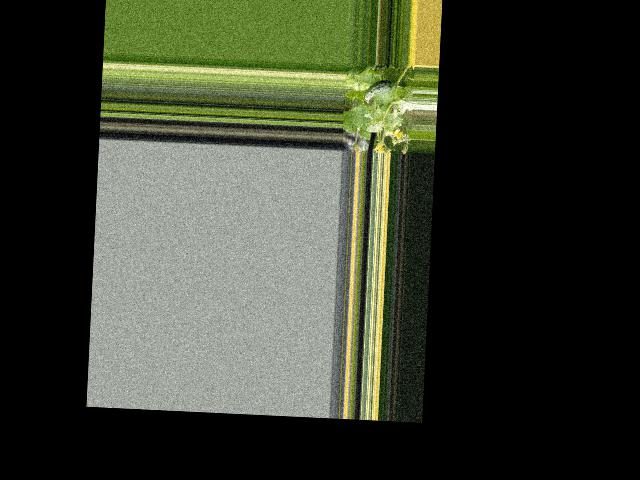cucumber: (364, 79, 393, 105)
